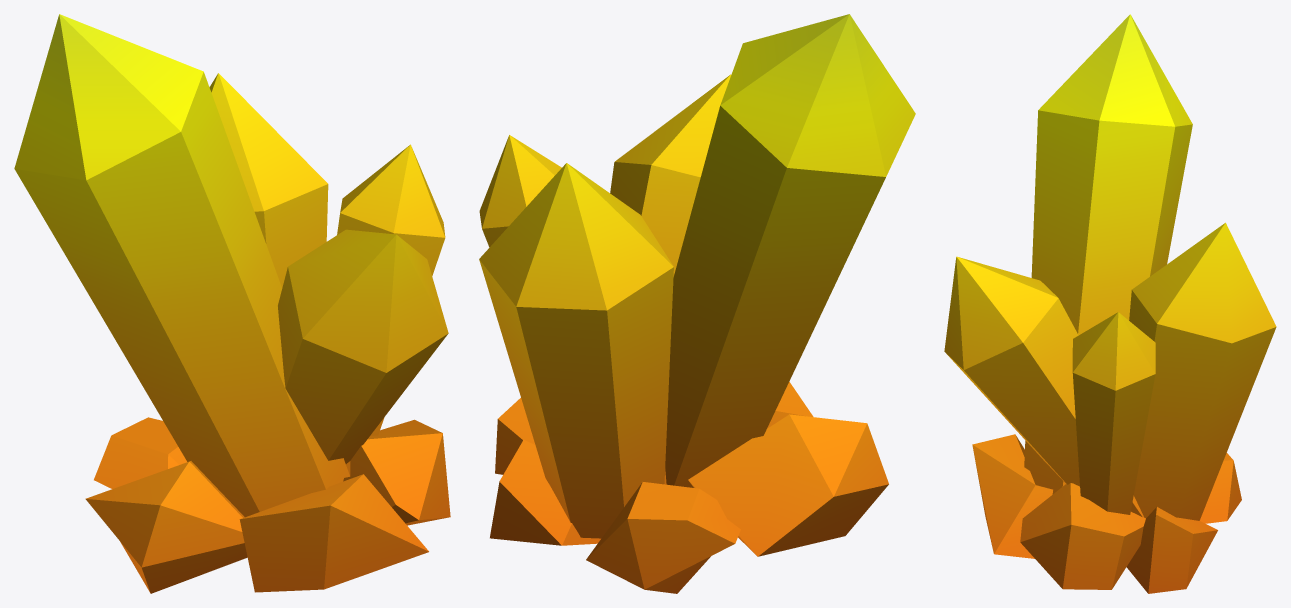
Rendered from M_Diamond_red.fbx.
The picture shows the model from 3 angles, left to right: view 1: azimuth 30°, elevation 25°; view 2: azimuth 150°, elevation 25°; view 3: azimuth 270°, elevation 25°; orthographic projection. The views are drawn at different scales.
Visible parts, largest first — view 1: M_diamond_red; view 2: M_diamond_red; view 3: M_diamond_red.
Part boxes in pixels (box(x1,y1,x2,y2)): M_diamond_red: box(14, 14, 450, 593); M_diamond_red: box(479, 14, 915, 593); M_diamond_red: box(944, 14, 1276, 593).
Bounding box in the file's own units: 110 × 147 × 95.87.
